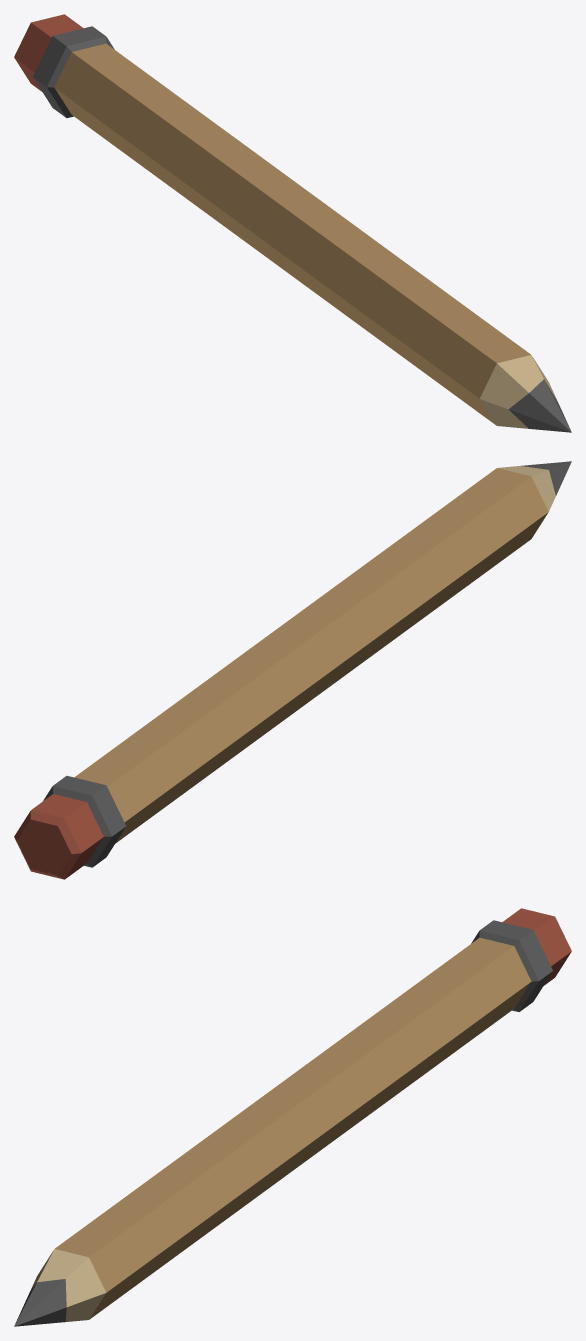
The model's file is chisel.fbx.
3 renders of one model, top to bottom at view 1: azimuth 30°, elevation 25°; view 2: azimuth 150°, elevation 25°; view 3: azimuth 330°, elevation 25°, orthographic.
Parts seen in each view (by area): view 1: Pen; view 2: Pen; view 3: Pen.
Boxes of the visible parts, x1,y1,x2,y2 form: Pen: (14,14,571,432); Pen: (14,461,571,879); Pen: (14,908,571,1326).
Size of the model in its own units: 1.3 by 1.12 by 14.9.
